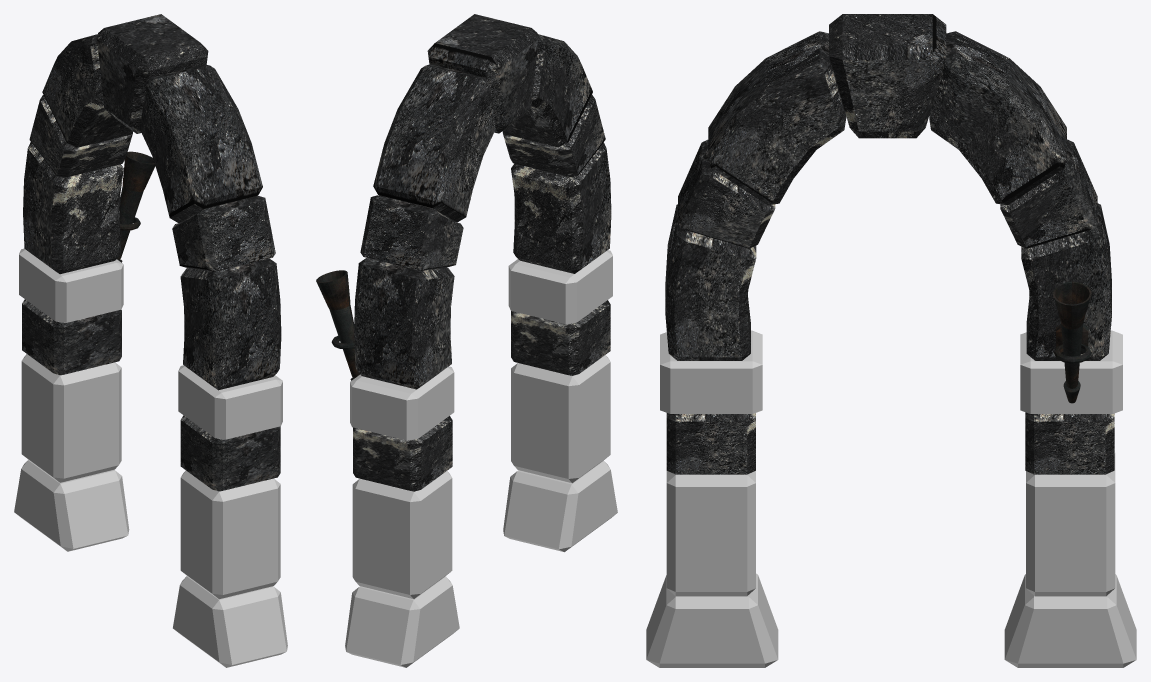
Rendered from Piedras_Antorcha_puerta.fbx.
3 views of the same model, side by side, from view 1: azimuth 30°, elevation 25°; view 2: azimuth 150°, elevation 25°; view 3: azimuth 270°, elevation 25° (orthographic). The views are drawn at different scales.
Parts seen in each view (by area): view 1: Piedra_07, Piedra_05, Piedra_02, Piedra_10, Piedra_13, Piedra_09, Piedra_08, Piedra_01, Piedra_06, Piedra_15, Piedra_04, Piedra_12 (+4 smaller); view 2: Piedra_15, Piedra_13, Piedra_10, Piedra_02, Piedra_05, Piedra_01, Piedra_09, Piedra_08, Piedra_14, Piedra_07, Piedra_12, Piedra_04 (+4 smaller); view 3: Piedra_07, Piedra_15, Piedra_08, Piedra_10, Piedra_02, Piedra_05, Piedra_01, Piedra_09, Piedra_13, Piedra_04, Piedra_14, Piedra_06 (+4 smaller).
Boxes of the visible parts, x1,y1,x2,y2 form: Piedra_07: (139, 64, 262, 223); Piedra_05: (180, 258, 281, 390); Piedra_02: (180, 470, 280, 599); Piedra_10: (21, 354, 121, 482); Piedra_13: (23, 142, 123, 274); Piedra_09: (14, 460, 129, 551); Piedra_08: (97, 14, 208, 133); Piedra_01: (173, 576, 287, 667); Piedra_06: (172, 196, 275, 271); Piedra_15: (42, 34, 132, 147); Piedra_04: (178, 365, 282, 439); Piedra_12: (19, 248, 123, 322); Piedra_15: (373, 64, 495, 222); Piedra_13: (354, 258, 454, 389); Piedra_10: (352, 471, 452, 598); Piedra_02: (511, 355, 610, 483); Piedra_05: (511, 142, 611, 273); Piedra_01: (503, 460, 617, 552); Piedra_09: (345, 576, 459, 667); Piedra_08: (427, 14, 538, 133); Piedra_14: (360, 195, 463, 270); Piedra_07: (502, 34, 592, 147); Piedra_12: (350, 366, 454, 440); Piedra_04: (508, 250, 612, 324); Piedra_07: (708, 31, 846, 205); Piedra_15: (929, 31, 1066, 205); Piedra_08: (829, 14, 946, 138); Piedra_10: (1026, 452, 1115, 596); Piedra_02: (666, 471, 755, 596); Piedra_05: (665, 204, 756, 360); Piedra_01: (646, 573, 778, 667); Piedra_09: (1004, 574, 1136, 667); Piedra_13: (1021, 203, 1111, 360); Piedra_04: (660, 330, 762, 413); Piedra_14: (1000, 139, 1097, 248); Piedra_06: (678, 139, 775, 248).
Size of the model in its own units: 3.48 by 15.4 by 10.98.
